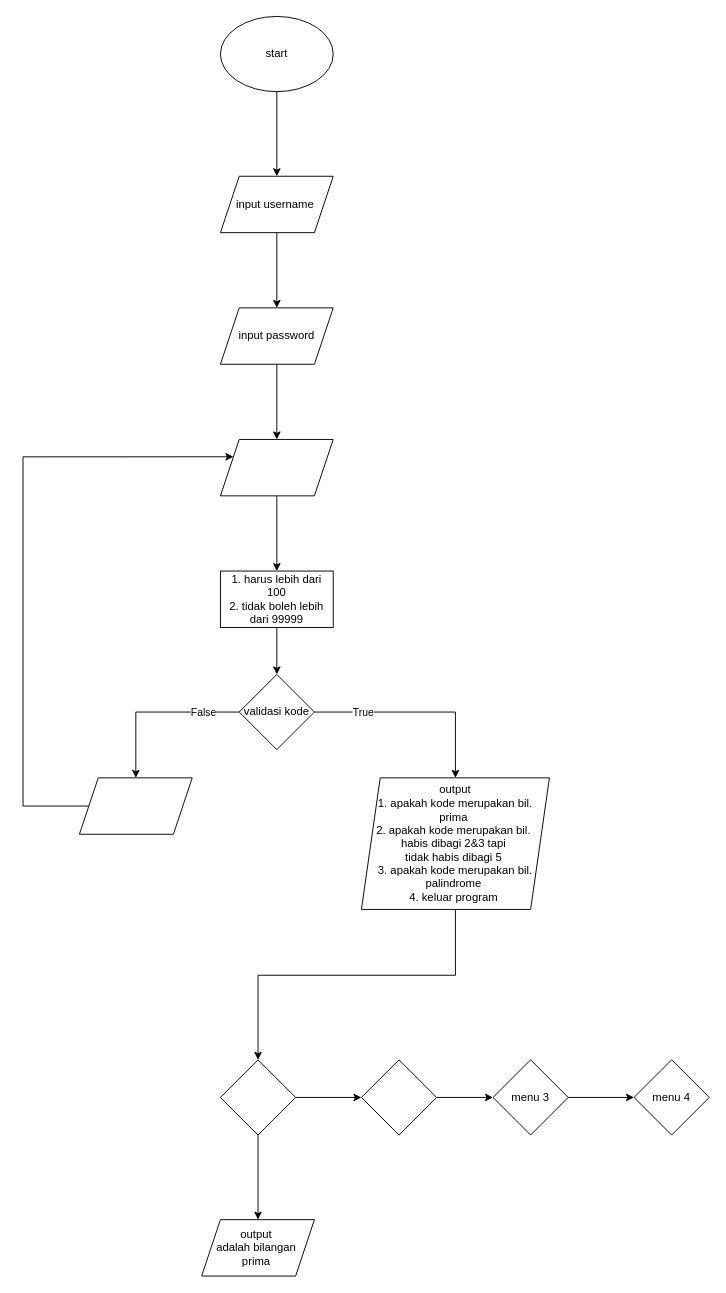
Image size: 726x1293. Some labels were removed from this diagram. The box of each missing label's shape, as (x1, y1, x2, y2) in pixels:
input kode sandi: (219, 439, 333, 496)
menu 1: (219, 1059, 296, 1135)
menu 2: (360, 1059, 437, 1135)
output input tidak valid: (78, 777, 192, 834)
